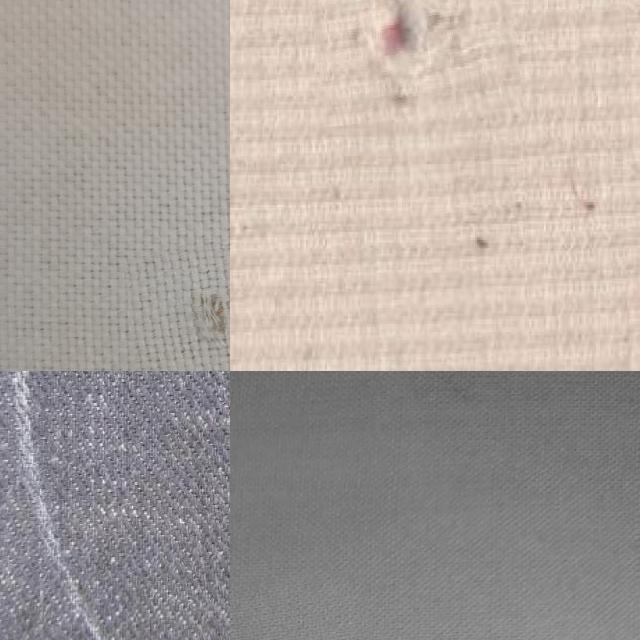Thread_other: (135, 371, 230, 640)
seam: (308, 0, 517, 122), (126, 246, 230, 371)
